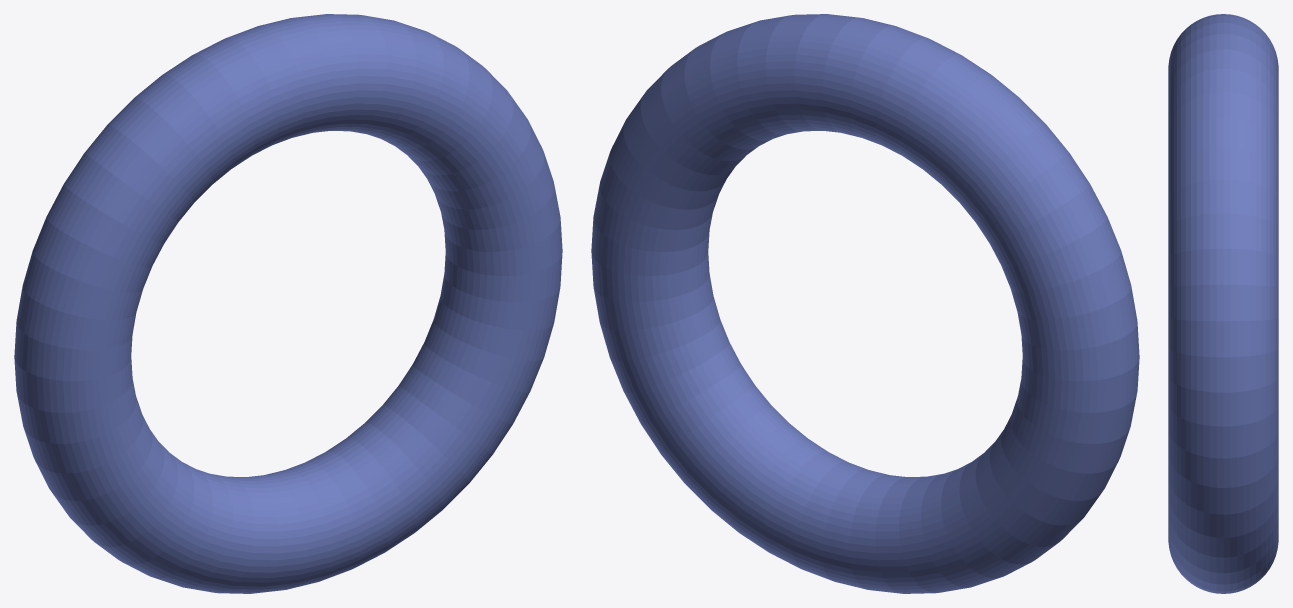
The picture shows the model from 3 angles, left to right: view 1: azimuth 30°, elevation 25°; view 2: azimuth 150°, elevation 25°; view 3: azimuth 270°, elevation 25°; orthographic projection. The views are drawn at different scales.
Visible parts, largest first — view 1: world; view 2: world; view 3: world.
Boxes of the visible parts, x1,y1,x2,y2 form: world: (14, 14, 562, 593); world: (591, 14, 1139, 593); world: (1168, 14, 1278, 593).
Size of the model in its own units: 18.93 by 18.9 by 3.59.
